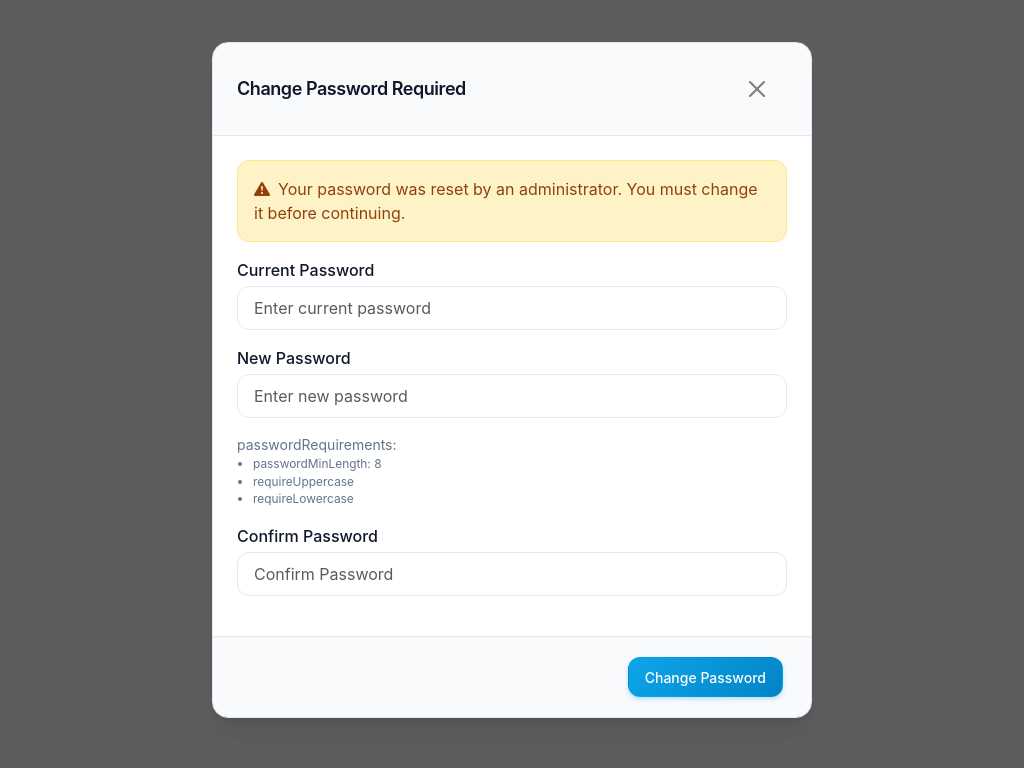
Scenario: ForceChangePasswordModal › Form Validation › should show error when new password is empty
Type "oldPassword123" into the password field named "current-password". click: {"x": 512, "y": 308}
box: [237,286,787,330]
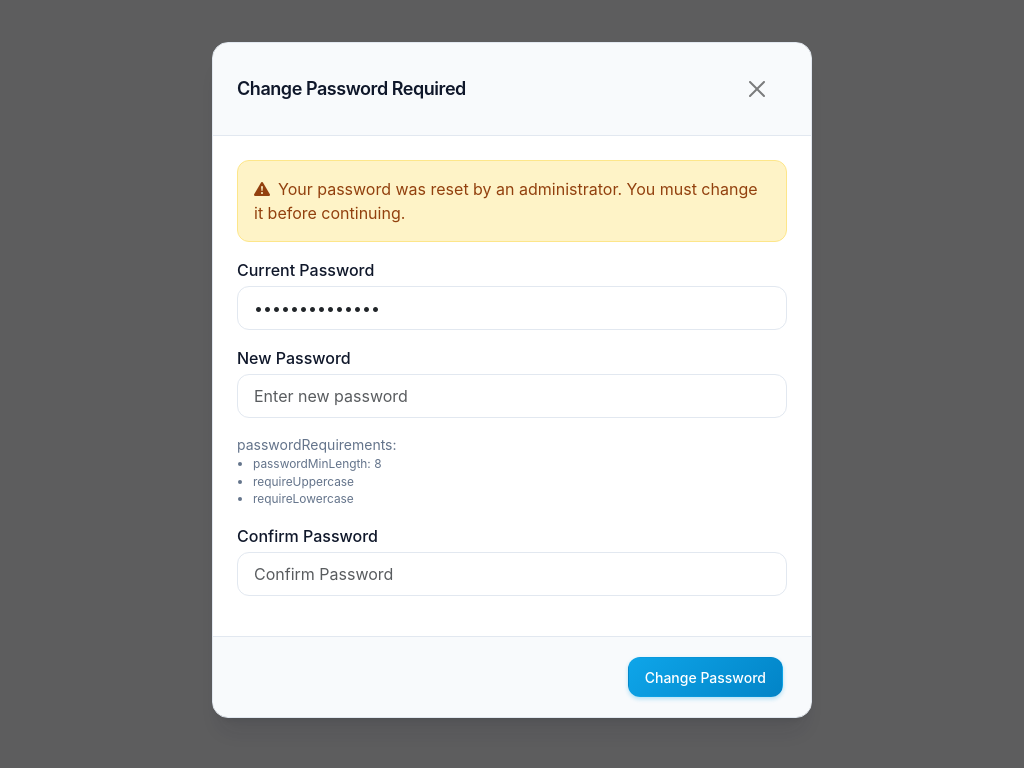
Click the button "Change Password". click: {"x": 705, "y": 677}
box: [628,657,783,697]
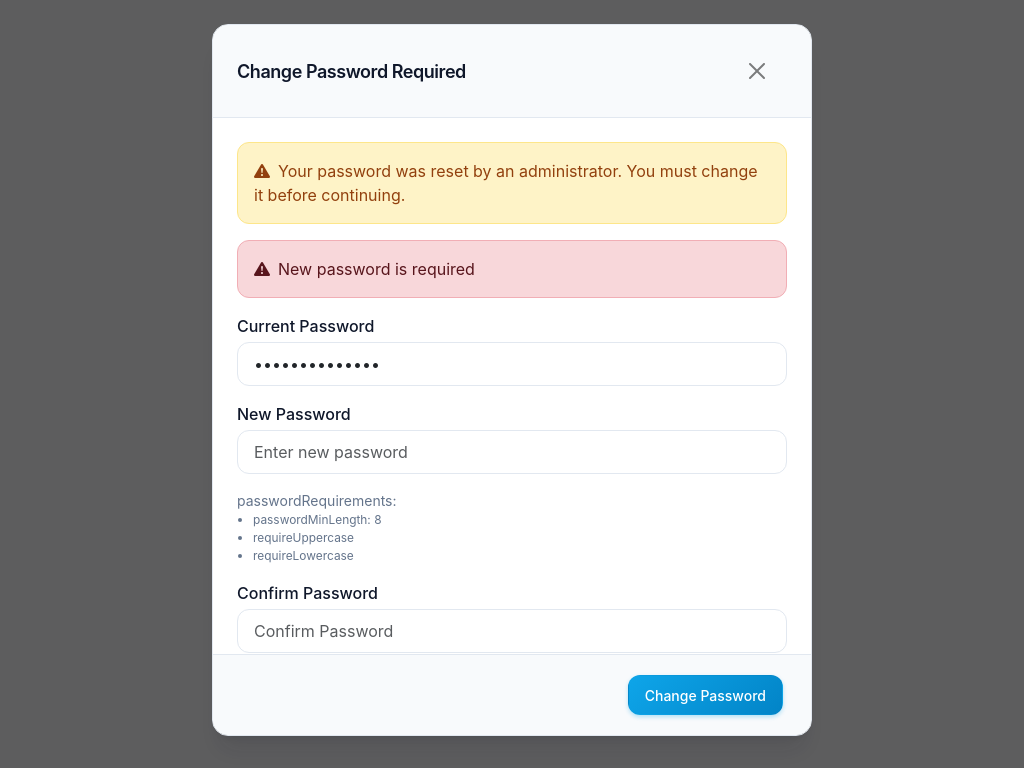
expect the text "New password is required" is shown: met, box [237,240,787,298]
